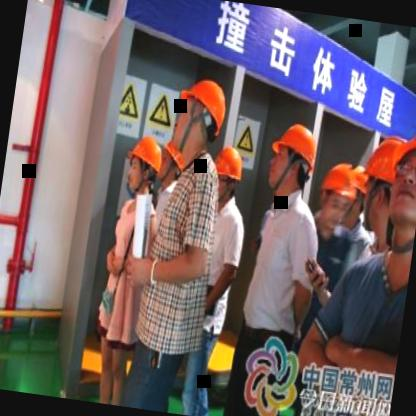helmet: (355, 131, 416, 234), (168, 74, 229, 156), (262, 120, 320, 199), (384, 112, 416, 245), (314, 156, 358, 233), (122, 132, 164, 196), (207, 142, 247, 200), (154, 135, 189, 190)
